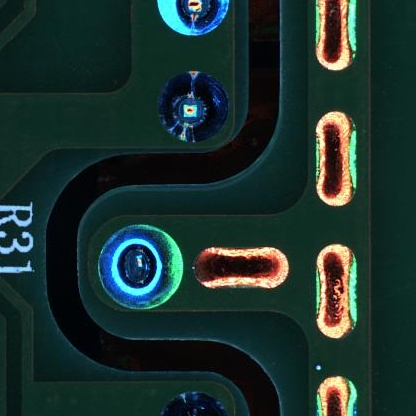spot: (97, 224, 185, 313), (157, 69, 231, 146), (156, 1, 231, 38), (157, 393, 226, 416)
